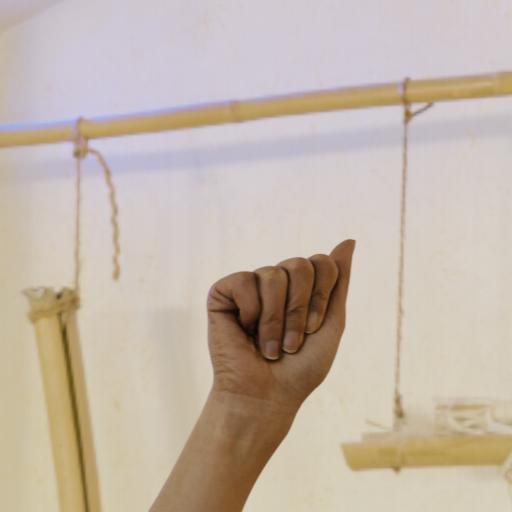A: (173, 214, 396, 418)
